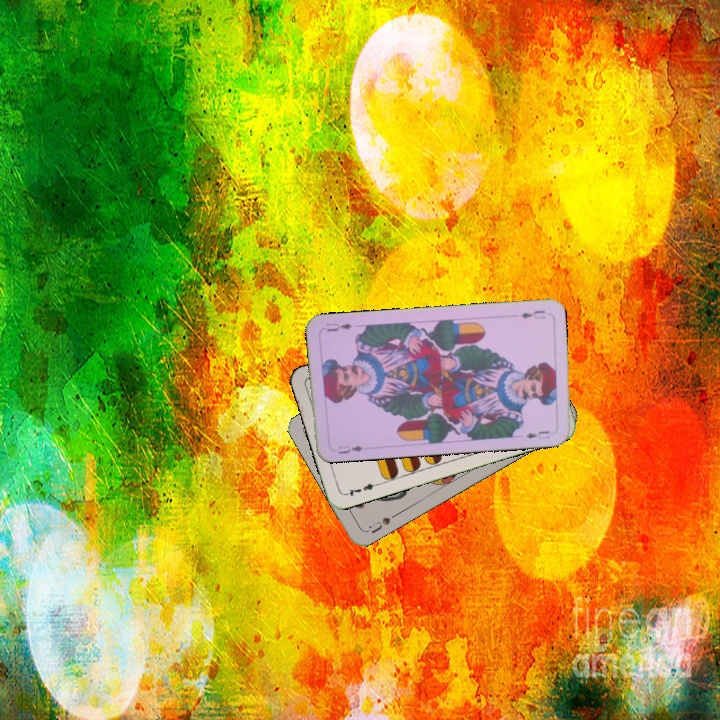E7: (341, 479, 381, 499)
EU: (334, 441, 365, 456), (517, 306, 548, 321)
SU: (365, 509, 399, 536)
